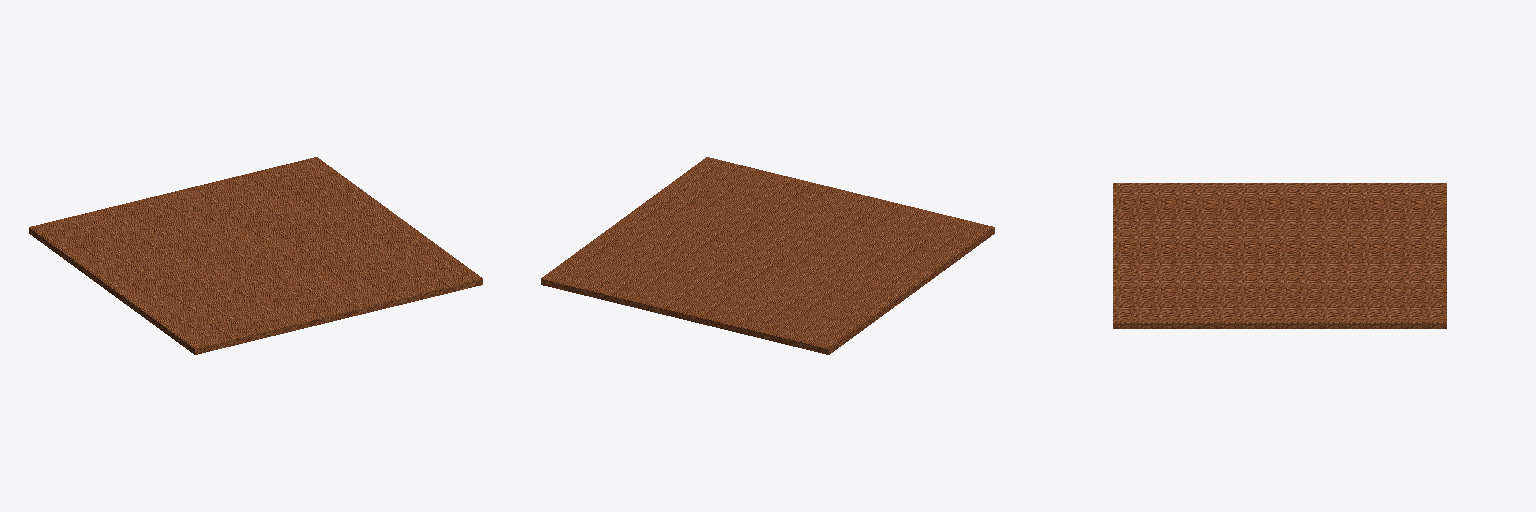
3 renders of one model, left to right at view 1: azimuth 30°, elevation 25°; view 2: azimuth 150°, elevation 25°; view 3: azimuth 270°, elevation 25°, orthographic.
Visible parts, largest first — view 1: Cube; view 2: Cube; view 3: Cube.
Boxes of the visible parts, x1,y1,x2,y2 form: Cube: [29, 157, 482, 354]; Cube: [541, 157, 994, 354]; Cube: [1113, 183, 1446, 328].
Size of the model in its own units: 100 by 2 by 100.
Materials: 1 (1 with a texture image).